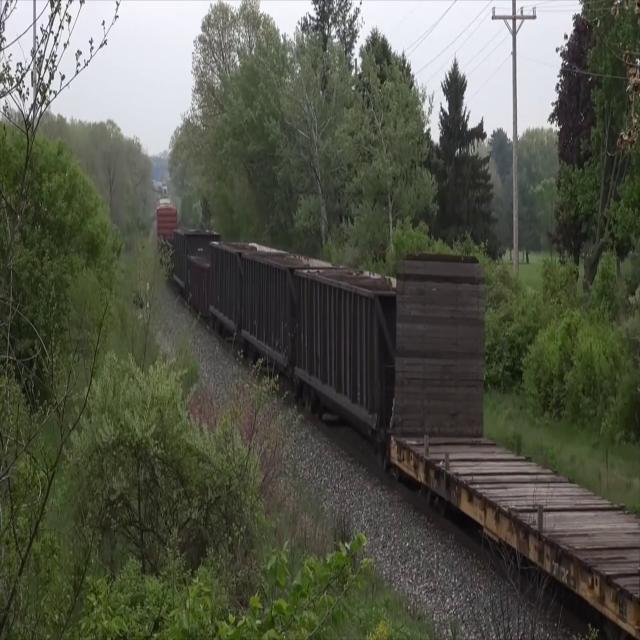flatcar_bulkhead: (387, 245, 640, 640)
gondola: (291, 258, 392, 471), (240, 242, 300, 381)
